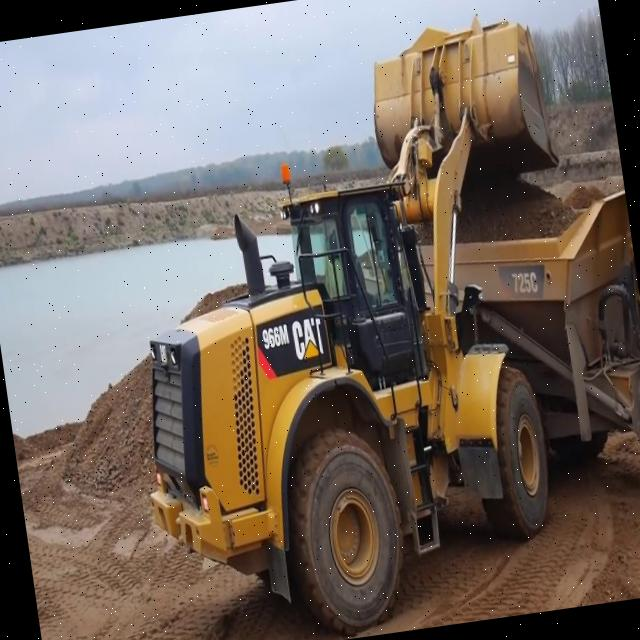Dump Truck: (414, 184, 640, 516)
Loader: (86, 0, 626, 640)
